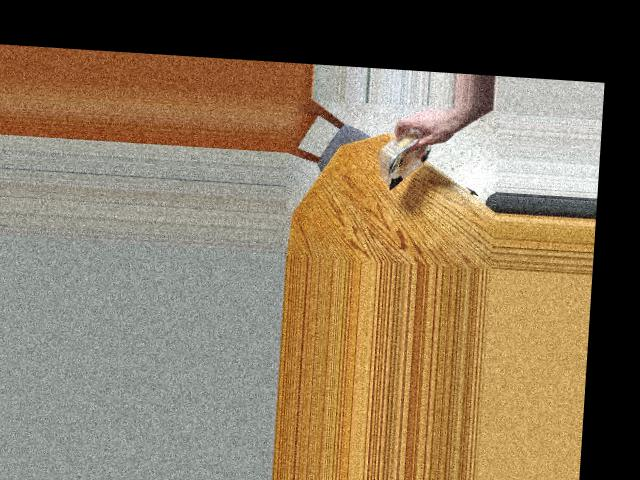cheese: (364, 123, 453, 189)
